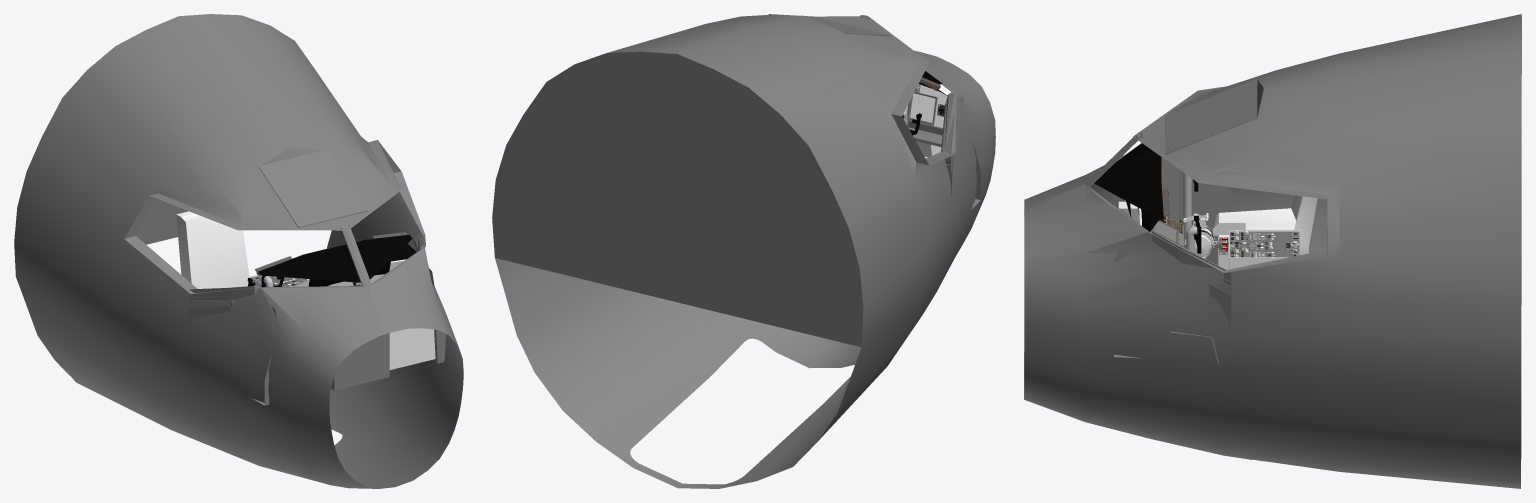
Rendered from interior.gltf.
3 views of the same model, side by side, from view 1: azimuth 30°, elevation 25°; view 2: azimuth 150°, elevation 25°; view 3: azimuth 270°, elevation 25° (orthographic). The views are drawn at different scales.
Visible parts, largest first — view 1: Interior; view 2: Interior; view 3: Interior.
Boxes of the visible parts, box(x1,y1,x2,y2) form: Interior: box(14, 14, 463, 488); Interior: box(492, 14, 995, 488); Interior: box(1024, 14, 1521, 488).
Size of the model in its own units: 3.06 by 3.42 by 3.49.
61 materials, 37 textured.
